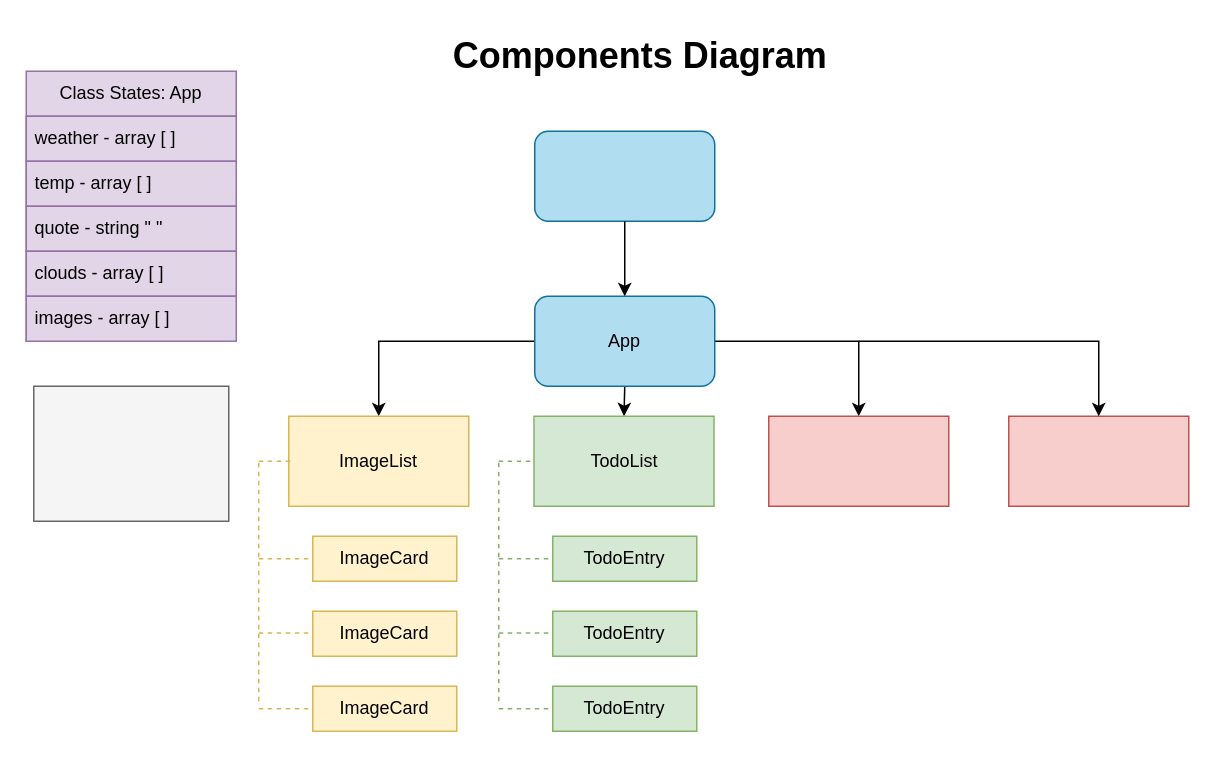
Some shapes in this 1215 by 758 pixel diagram are drawn without their labels. Here are the shapes that lost their labels. From the top down, the centre of each, then its label:
At (624,175): "Provider(store.js)".
At (130,453): "Header Main Footer Background".
At (858,460): "Weather".
At (1098,460): "Quote".
